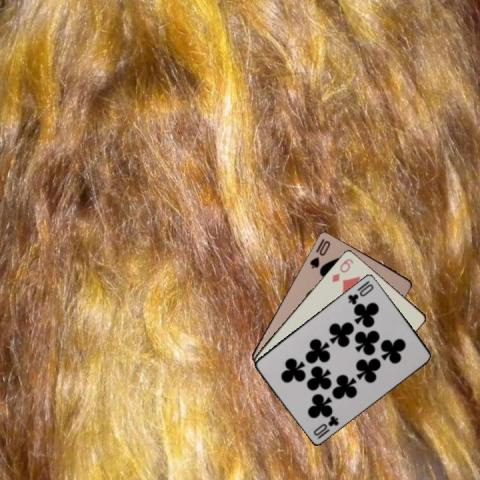10c: (345, 277, 375, 306), (310, 413, 340, 440)
10s: (307, 237, 331, 270)
6d: (328, 255, 354, 284)
